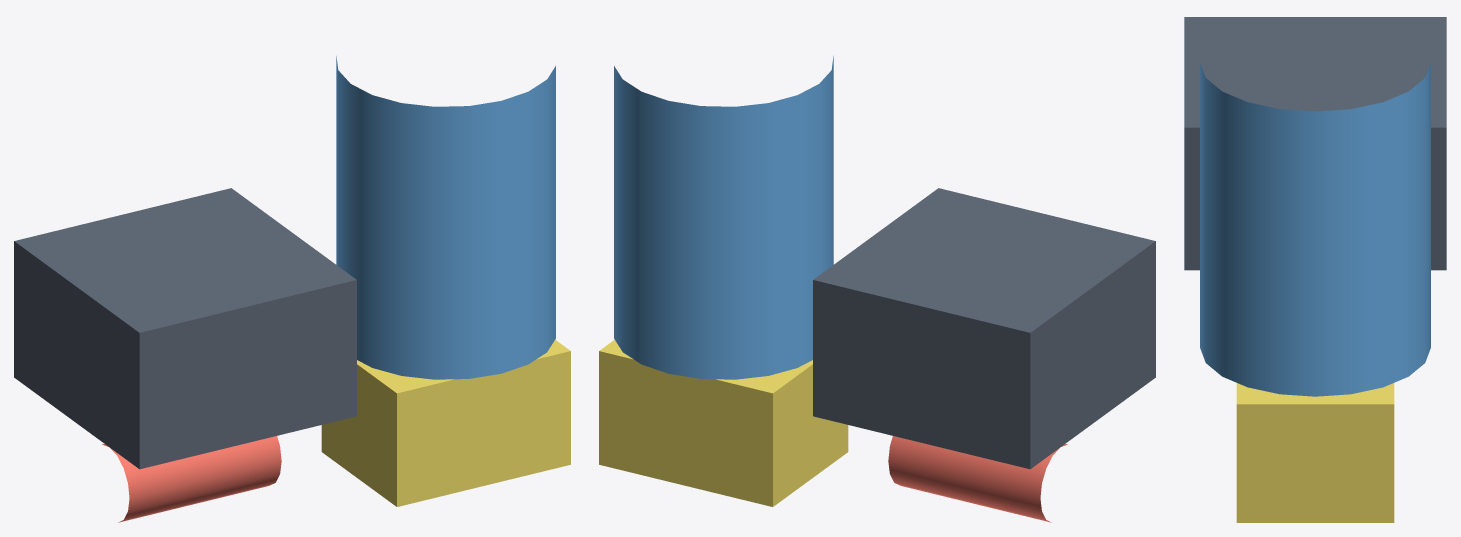
File: diode_rectifiers_filters_clippers.glb
The picture shows the model from 3 angles, left to right: view 1: azimuth 30°, elevation 25°; view 2: azimuth 150°, elevation 25°; view 3: azimuth 270°, elevation 25°; orthographic projection. The views are drawn at different scales.
Visible parts, largest first — view 1: MoldedBridgeRectifierIC, SmoothingElectrolyticCapacitor, ClampingDCBiasVoltageSource, FastRecoveryClippingDiode; view 2: MoldedBridgeRectifierIC, SmoothingElectrolyticCapacitor, ClampingDCBiasVoltageSource, FastRecoveryClippingDiode; view 3: SmoothingElectrolyticCapacitor, MoldedBridgeRectifierIC, ClampingDCBiasVoltageSource.
Part boxes in pixels (left/top/right/bottom): MoldedBridgeRectifierIC: left=14, top=188, right=356, bottom=469; SmoothingElectrolyticCapacitor: left=336, top=56, right=555, bottom=379; ClampingDCBiasVoltageSource: left=321, top=339, right=570, bottom=506; FastRecoveryClippingDiode: left=102, top=436, right=281, bottom=522; MoldedBridgeRectifierIC: left=813, top=188, right=1155, bottom=469; SmoothingElectrolyticCapacitor: left=614, top=56, right=833, bottom=379; ClampingDCBiasVoltageSource: left=599, top=339, right=848, bottom=506; FastRecoveryClippingDiode: left=888, top=436, right=1067, bottom=522; SmoothingElectrolyticCapacitor: left=1200, top=63, right=1430, bottom=396; MoldedBridgeRectifierIC: left=1184, top=17, right=1446, bottom=270; ClampingDCBiasVoltageSource: left=1236, top=383, right=1394, bottom=522.
Size of the model in its own units: 1.07 by 0.875 by 0.5.
